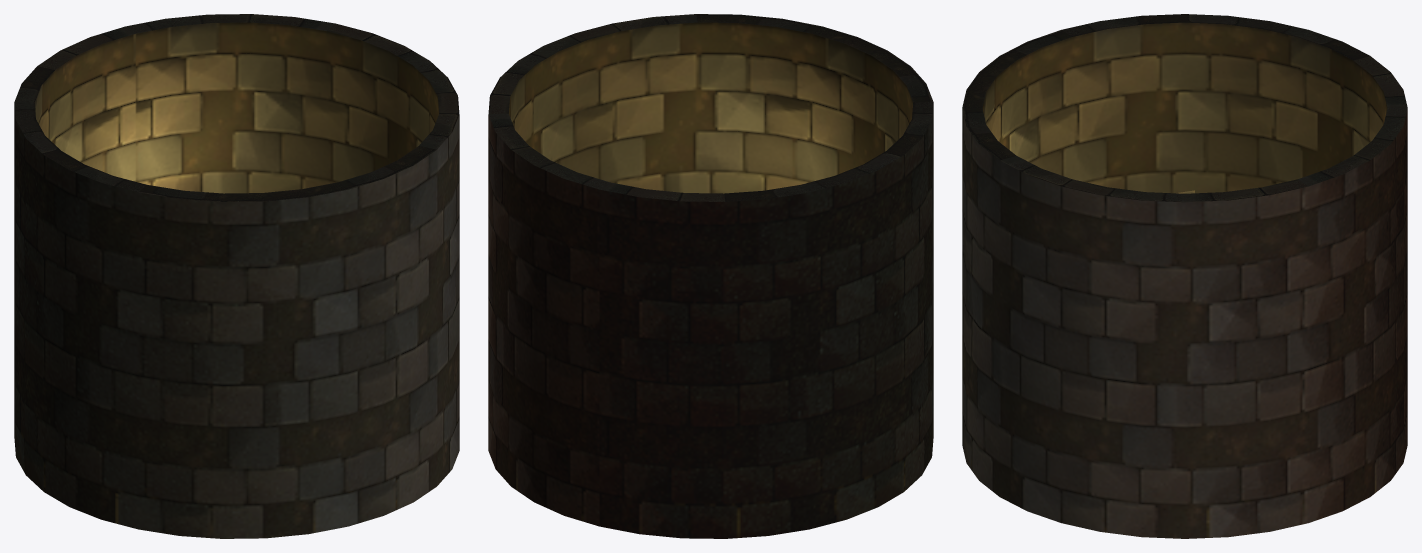
File: SM_ENV_V2.fbx
3 views of the same model, side by side, from view 1: azimuth 30°, elevation 25°; view 2: azimuth 150°, elevation 25°; view 3: azimuth 270°, elevation 25° (orthographic).
Visible parts, largest first — view 1: SM_ENV_Wall; view 2: SM_ENV_Wall; view 3: SM_ENV_Wall.
Part boxes in pixels (<box>): SM_ENV_Wall: <box>14,14,459,538</box>; SM_ENV_Wall: <box>488,14,933,538</box>; SM_ENV_Wall: <box>962,14,1407,538</box>.
Size of the model in its own units: 110 by 91.7 by 110.
4 materials, 3 textured.
